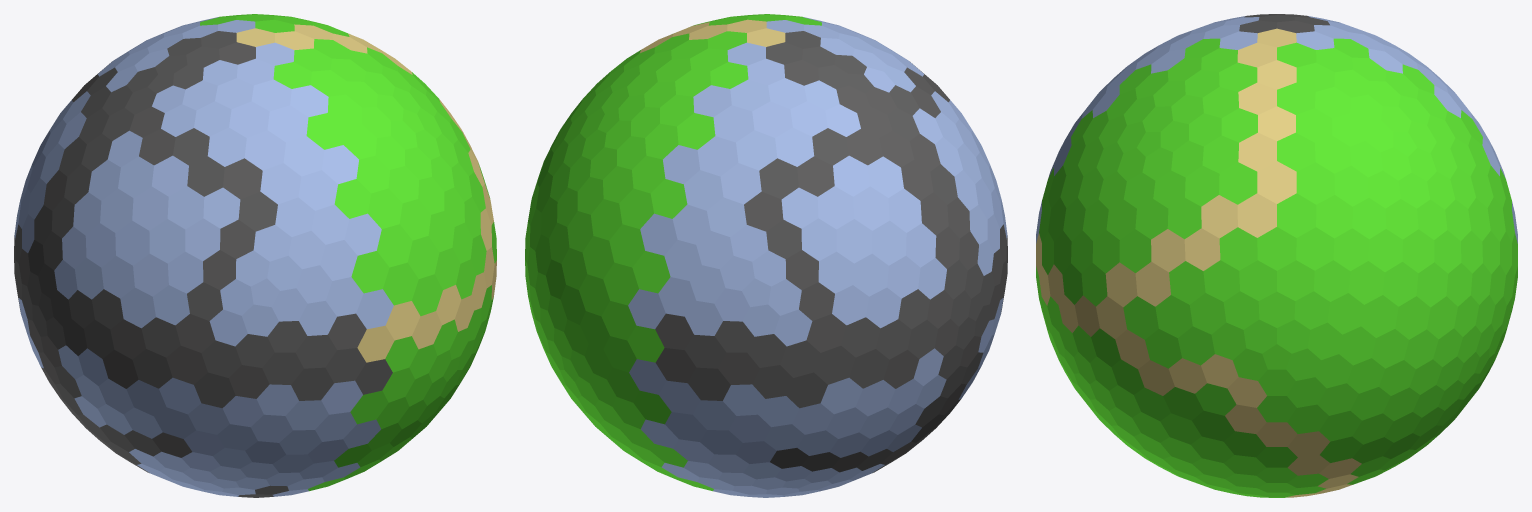
The model's file is HexagonPlanetLast.fbx.
3 renders of one model, left to right at view 1: azimuth 30°, elevation 25°; view 2: azimuth 150°, elevation 25°; view 3: azimuth 270°, elevation 25°, orthographic.
Visible parts, largest first — view 1: Hexagon.920, Hexagon.932, Hexagon.521, Hexagon.503, Hexagon.929, Hexagon.967, Hexagon.930, Hexagon.931, Hexagon.919, Hexagon.981, Hexagon.212, Hexagon.898 (+158 smaller); view 2: Hexagon.403, Hexagon.1052, Hexagon.408, Hexagon.385, Hexagon.1055, Hexagon.923, Hexagon.912, Hexagon.1054, Hexagon.362, Hexagon.938, Hexagon.168, Hexagon.908 (+158 smaller); view 3: Hexagon.076, Hexagon.077, Hexagon.074, Hexagon.080, Hexagon.069, Hexagon.075, Hexagon.079, Hexagon.081, Hexagon.070, Hexagon.078, Hexagon.052, Hexagon.092 (+173 smaller).
Boxes of the visible parts, x1=… form: Hexagon.920: x1=260, y1=163, x2=301, y2=204; Hexagon.932: x1=149, y1=219, x2=185, y2=263; Hexagon.521: x1=244, y1=130, x2=285, y2=170; Hexagon.503: x1=283, y1=136, x2=324, y2=176; Hexagon.929: x1=132, y1=186, x2=168, y2=230; Hexagon.967: x1=223, y1=158, x2=262, y2=199; Hexagon.930: x1=167, y1=186, x2=204, y2=229; Hexagon.931: x1=115, y1=220, x2=149, y2=265; Hexagon.919: x1=298, y1=170, x2=337, y2=210; Hexagon.981: x1=238, y1=191, x2=277, y2=231; Hexagon.212: x1=351, y1=251, x2=389, y2=293; Hexagon.898: x1=185, y1=218, x2=220, y2=260; Hexagon.403: x1=720, y1=163, x2=761, y2=204; Hexagon.1052: x1=836, y1=219, x2=872, y2=263; Hexagon.408: x1=736, y1=130, x2=777, y2=170; Hexagon.385: x1=697, y1=136, x2=738, y2=176; Hexagon.1055: x1=853, y1=186, x2=889, y2=230; Hexagon.923: x1=759, y1=158, x2=798, y2=199; Hexagon.912: x1=817, y1=186, x2=854, y2=229; Hexagon.1054: x1=872, y1=220, x2=906, y2=265; Hexagon.362: x1=684, y1=170, x2=723, y2=210; Hexagon.938: x1=744, y1=191, x2=783, y2=231; Hexagon.168: x1=632, y1=251, x2=670, y2=293; Hexagon.908: x1=707, y1=197, x2=746, y2=236; Hexagon.076: x1=1277, y1=193, x2=1316, y2=237; Hexagon.077: x1=1237, y1=193, x2=1276, y2=237; Hexagon.074: x1=1257, y1=227, x2=1296, y2=270; Hexagon.080: x1=1257, y1=161, x2=1296, y2=203; Hexagon.069: x1=1296, y1=227, x2=1334, y2=270; Hexagon.075: x1=1219, y1=227, x2=1257, y2=270; Hexagon.079: x1=1296, y1=162, x2=1334, y2=204; Hexagon.081: x1=1219, y1=162, x2=1257, y2=204; Hexagon.070: x1=1316, y1=195, x2=1352, y2=238; Hexagon.078: x1=1201, y1=195, x2=1237, y2=238; Hexagon.052: x1=1348, y1=261, x2=1384, y2=304; Hexagon.092: x1=1169, y1=261, x2=1205, y2=304.
Size of the model in its own units: 199 by 198 by 198.
